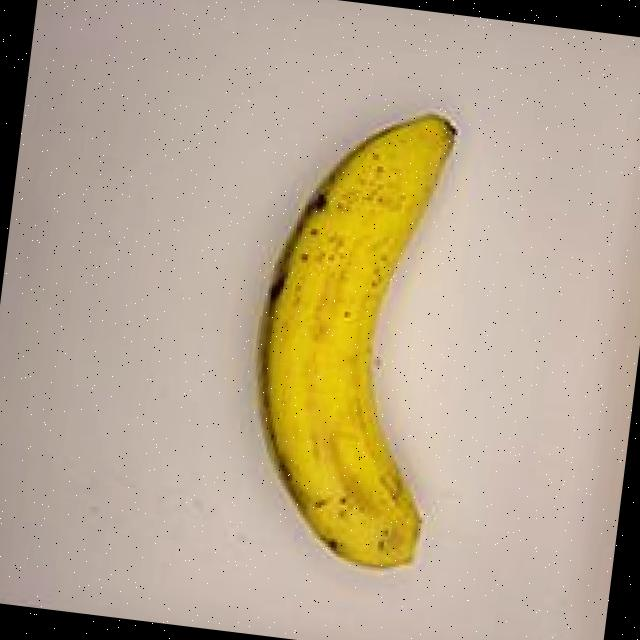Overripe: (218, 71, 510, 594)
